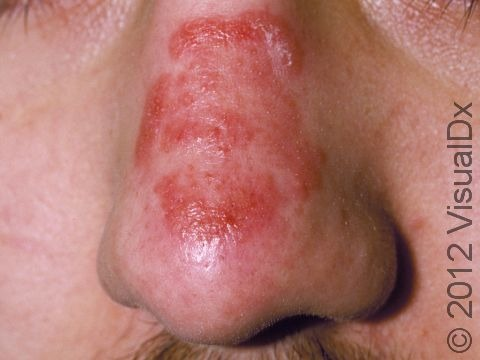Ringworm: (124, 8, 338, 257)
